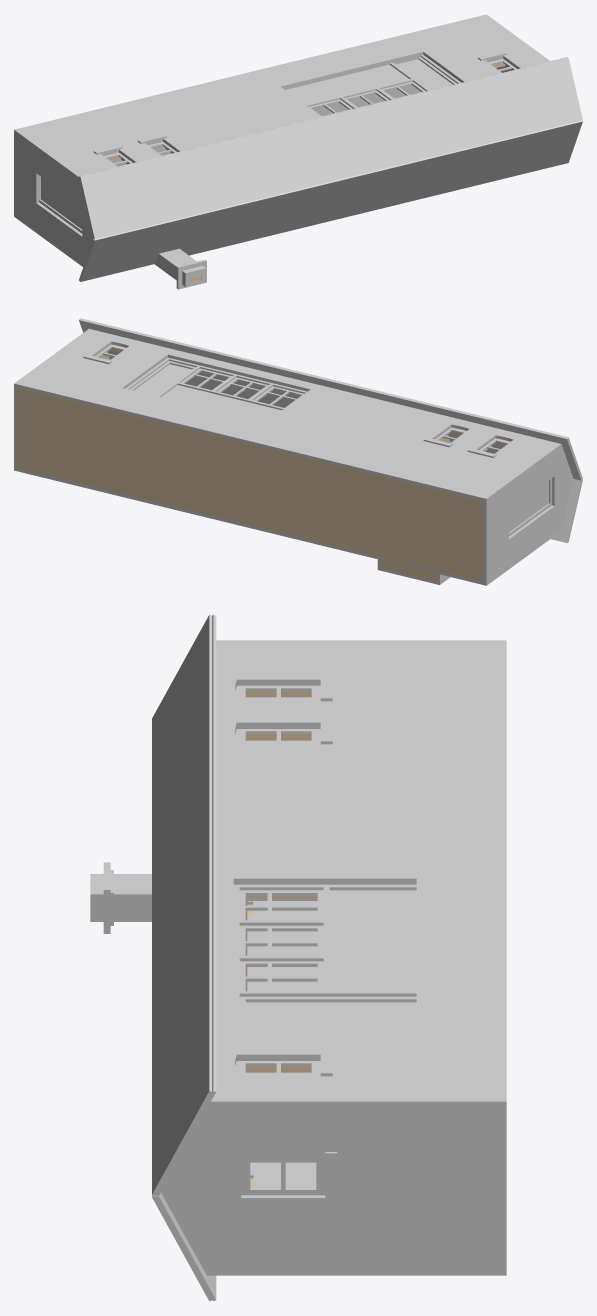
The model's file is platform-shelter.gltf.
3 views of the same model, one above another, from view 1: azimuth 30°, elevation 25°; view 2: azimuth 150°, elevation 25°; view 3: azimuth 270°, elevation 25° (orthographic). The views are drawn at different scales.
Visible parts, largest first — view 1: platform_shelter_c6_front_roof_p1_roof_layer_1_part, platform_shelter_c1_front_wall_p1_outside_wall_part, platform_shelter_c5_back_roof_p1_roof_layer_1_part, platform_shelter_c4_left_wall_p1_outside_wall_part, platform_shelter_c1_front_wall_c6_door_windows_p1_layer2_par, platform_shelter_c1_front_wall_c6_door_windows_p0_layer1_par, platform_shelter_c4_left_wall_c0_door_p1_door_part, platform_shelter_c6_front_roof_p0_roof_layer_0_part, platform_shelter_c0_floor_p1_inside_floor_part, platform_shelter_c1_front_wall_c6_door_windows_p2_door_part, platform_shelter_c2_back_wall_c3_external_chimney_c0_externa; view 2: platform_shelter_c0_floor_p0_base_floor_part, platform_shelter_c1_front_wall_p1_outside_wall_part, platform_shelter_c4_left_wall_p1_outside_wall_part, platform_shelter_c6_front_roof_p0_roof_layer_0_part, platform_shelter_c1_front_wall_p0_base_wall_part, platform_shelter_c2_back_wall_p0_base_wall_part, platform_shelter_c1_front_wall_c6_door_windows_p1_layer2_par, platform_shelter_c2_back_wall_p1_outside_wall_part, platform_shelter_c1_front_wall_c6_door_windows_p0_layer1_par, platform_shelter_c4_left_wall_c0_door_p1_door_part, platform_shelter_c6_front_roof_p1_roof_layer_1_part, platform_shelter_c1_front_wall_c6_door_windows_p2_door_part (+4 smaller); view 3: platform_shelter_c1_front_wall_p1_outside_wall_part, platform_shelter_c3_right_wall_p1_outside_wall_part, platform_shelter_c6_front_roof_p1_roof_layer_1_part, platform_shelter_c1_front_wall_c6_door_windows_p1_layer2_par, platform_shelter_c2_back_wall_p2_inside_wall_part, platform_shelter_c1_front_wall_c6_door_windows_p0_layer1_par, platform_shelter_c6_front_roof_p0_roof_layer_0_part, platform_shelter_c1_front_wall_c6_door_windows_p2_door_part, platform_shelter_c3_right_wall_c0_window_p0_frame_part, platform_shelter_c1_front_wall_p0_base_wall_part, platform_shelter_c4_left_wall_p1_outside_wall_part, platform_shelter_c5_back_roof_p0_roof_layer_0_part (+1 smaller).
Boxes of the visible parts, x1,y1,x2,y2 form: platform_shelter_c6_front_roof_p1_roof_layer_1_part: (80, 57, 582, 239); platform_shelter_c1_front_wall_p1_outside_wall_part: (17, 15, 547, 175); platform_shelter_c5_back_roof_p1_roof_layer_1_part: (80, 120, 582, 281); platform_shelter_c4_left_wall_p1_outside_wall_part: (14, 129, 92, 266); platform_shelter_c1_front_wall_c6_door_windows_p1_layer2_par: (285, 57, 456, 116); platform_shelter_c1_front_wall_c6_door_windows_p0_layer1_par: (284, 55, 461, 108); platform_shelter_c4_left_wall_c0_door_p1_door_part: (41, 177, 82, 229); platform_shelter_c6_front_roof_p0_roof_layer_0_part: (79, 57, 567, 238); platform_shelter_c0_floor_p1_inside_floor_part: (112, 85, 420, 166); platform_shelter_c1_front_wall_c6_door_windows_p2_door_part: (396, 59, 452, 89); platform_shelter_c2_back_wall_c3_external_chimney_c0_externa: (158, 248, 196, 267); platform_shelter_c0_floor_p0_base_floor_part: (17, 399, 483, 570); platform_shelter_c1_front_wall_p1_outside_wall_part: (17, 329, 557, 500); platform_shelter_c4_left_wall_p1_outside_wall_part: (483, 443, 573, 585); platform_shelter_c6_front_roof_p0_roof_layer_0_part: (79, 319, 581, 480); platform_shelter_c1_front_wall_p0_base_wall_part: (25, 348, 506, 508); platform_shelter_c2_back_wall_p0_base_wall_part: (25, 461, 474, 579); platform_shelter_c1_front_wall_c6_door_windows_p1_layer2_par: (129, 361, 303, 422); platform_shelter_c2_back_wall_p1_outside_wall_part: (17, 468, 483, 584); platform_shelter_c1_front_wall_c6_door_windows_p0_layer1_par: (125, 357, 306, 410); platform_shelter_c4_left_wall_c0_door_p1_door_part: (509, 480, 548, 532); platform_shelter_c6_front_roof_p1_roof_layer_1_part: (80, 318, 582, 479); platform_shelter_c1_front_wall_c6_door_windows_p2_door_part: (134, 364, 191, 395); platform_shelter_c1_front_wall_p1_outside_wall_part: (213, 643, 506, 1098); platform_shelter_c3_right_wall_p1_outside_wall_part: (161, 1098, 506, 1275); platform_shelter_c6_front_roof_p1_roof_layer_1_part: (152, 614, 212, 1195); platform_shelter_c1_front_wall_c6_door_windows_p1_layer2_par: (239, 890, 416, 1017); platform_shelter_c2_back_wall_p2_inside_wall_part: (247, 901, 317, 1188); platform_shelter_c1_front_wall_c6_door_windows_p0_layer1_par: (233, 884, 416, 1017); platform_shelter_c6_front_roof_p0_roof_layer_0_part: (156, 614, 216, 1195); platform_shelter_c1_front_wall_c6_door_windows_p2_door_part: (245, 1002, 416, 1017); platform_shelter_c3_right_wall_c0_window_p0_frame_part: (240, 1160, 325, 1195); platform_shelter_c1_front_wall_p0_base_wall_part: (245, 691, 317, 1072); platform_shelter_c4_left_wall_p1_outside_wall_part: (216, 640, 506, 643); platform_shelter_c5_back_roof_p0_roof_layer_0_part: (156, 1193, 216, 1301).
Size of the model in its own units: 188 by 40.82 by 69.42.
